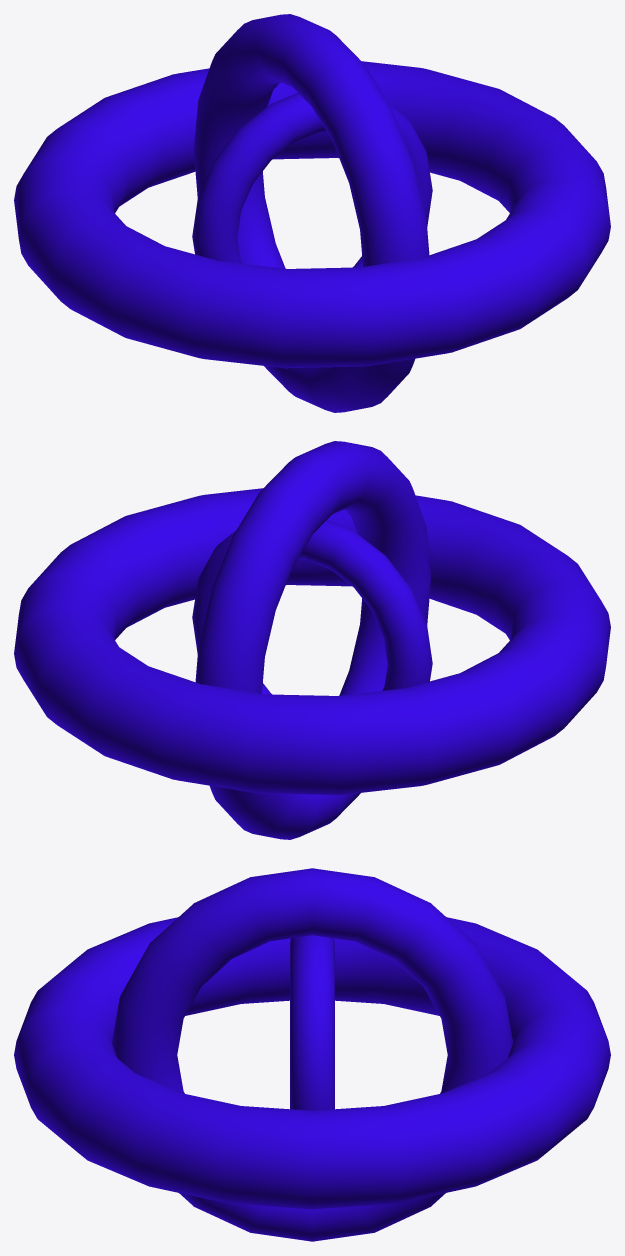
File: ring.fbx
The picture shows the model from 3 angles, top to bottom: view 1: azimuth 30°, elevation 25°; view 2: azimuth 150°, elevation 25°; view 3: azimuth 270°, elevation 25°; orthographic projection.
Visible parts, largest first — view 1: pTorus1, pTorus2, pTorus3; view 2: pTorus1, pTorus2, pTorus3; view 3: pTorus1, pTorus2, pTorus3.
Part boxes in pixels (x1,y1,x2,y2): pTorus1: [14, 61, 610, 368]; pTorus2: [193, 14, 429, 412]; pTorus3: [192, 93, 432, 267]; pTorus1: [14, 488, 610, 795]; pTorus2: [195, 441, 431, 839]; pTorus3: [192, 520, 432, 694]; pTorus1: [14, 917, 610, 1209]; pTorus2: [112, 868, 512, 1241]; pTorus3: [290, 935, 334, 1110].
Size of the model in its own units: 4.8 by 3.26 by 4.8.
